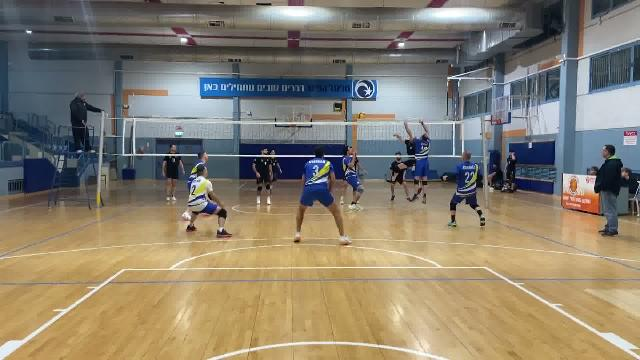ball: (357, 111, 365, 120)
